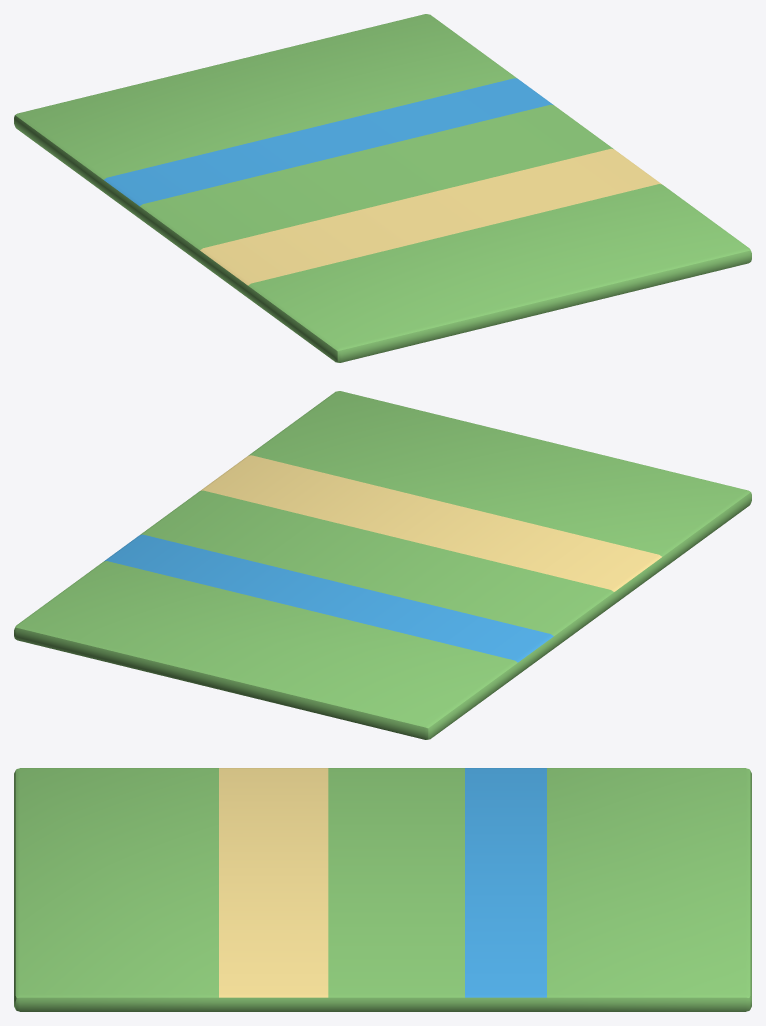
The model's file is revista_listrada.glb.
3 renders of one model, top to bottom at view 1: azimuth 30°, elevation 25°; view 2: azimuth 150°, elevation 25°; view 3: azimuth 270°, elevation 25°, orthographic. The views are drawn at different scales.
Visible parts, largest first — view 1: revista_listrada; view 2: revista_listrada; view 3: revista_listrada.
Part boxes in pixels (x1,y1,x2,y2): revista_listrada: [14, 14, 751, 362]; revista_listrada: [14, 391, 751, 739]; revista_listrada: [14, 768, 751, 1011].
Size of the model in its own units: 0.2 by 0.007 by 0.27.
1 material, 1 textured.
